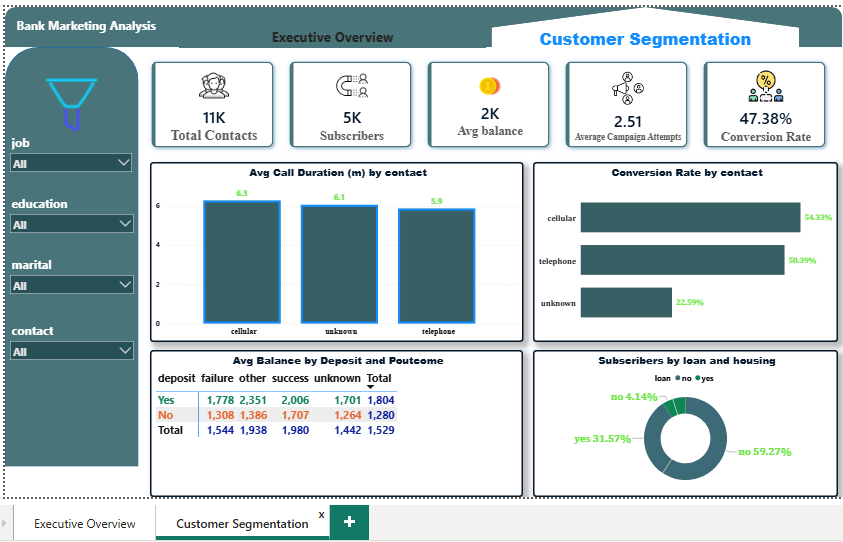

The page's visual inventory and layout, read from the dashboard file:
{"tool":"powerbi","page":{"name":"Customer Segmentation ","canvas":[1675,980],"ordinal":1},"visuals":[{"type":"shape","box":[0,0,1674.7,80.6],"z":0},{"type":"pageNavigator","box":[347.8,0,1240.2,82.8],"z":1000},{"type":"textbox","box":[18,14,304,52],"z":2000},{"type":"cardVisual","fields":{"Data":["_measures.Total Contacts","_measures.Subscribers","_measures.Avg balance","_measures.Average Campaign Attempts","_measures.Conversion Rate"]},"box":[264,80,1410,230],"z":3000},{"type":"shape","box":[0,81,266.8,839],"z":4000},{"type":"clusteredColumnChart","fields":{"Category":["Bank_Clean.contact"],"Y":["_measures.Avg Call Duration (m)"]},"box":[290.7,310,746.7,360],"z":5000},{"type":"pivotTable","title":"Avg Balance by Deposit and Poutcome","fields":{"Rows":["Bank_Clean.deposit"],"Values":["_measures.Avg balance"],"Columns":["Bank_Clean.poutcome"]},"box":[290.2,686.2,746.2,293.8],"z":6000},{"type":"donutChart","fields":{"Category":["Bank_Clean.loan","Bank_Clean.deposit"],"Series":["Bank_Clean.housing"],"Y":["_measures.Subscribers"]},"box":[1055.2,686.2,610,293.8],"z":7000},{"type":"slicer","fields":{"Values":["Bank_Clean.job"]},"box":[0,248.4,263.8,105.5],"z":8000},{"type":"slicer","fields":{"Values":["Bank_Clean.education"]},"box":[0,370,266.7,101.7],"z":9000},{"type":"slicer","fields":{"Values":["Bank_Clean.marital"]},"box":[0,491.7,266.7,101.7],"z":10000},{"type":"slicer","fields":{"Values":["Bank_Clean.contact"]},"box":[0,623.3,266.7,101.7],"z":11000},{"type":"image","box":[45,121.7,175,145],"z":12000},{"type":"barChart","fields":{"Category":["Bank_Clean.contact"],"Y":["_measures.Conversion Rate"]},"box":[1055.2,310,610,360],"z":13000}]}

Visuals, with their boxes on the page's 1675x980 design canvas (x1, y1, x2, y2). These are canvas units, not pixel positions in the 843x542 screenshot, which may show the page scaled, cropped or inside an application window:
shape: x1=0 y1=0 x2=1675 y2=81
pageNavigator: x1=348 y1=0 x2=1588 y2=83
textbox: x1=18 y1=14 x2=322 y2=66
cardVisual - _measures.Total Contacts x _measures.Subscribers: x1=264 y1=80 x2=1674 y2=310
shape: x1=0 y1=81 x2=267 y2=920
clusteredColumnChart - Bank_Clean.contact x _measures.Avg Call Duration (m): x1=291 y1=310 x2=1037 y2=670
"Avg Balance by Deposit and Poutcome" pivotTable: x1=290 y1=686 x2=1036 y2=980
donutChart - Bank_Clean.loan x Bank_Clean.deposit: x1=1055 y1=686 x2=1665 y2=980
slicer - Bank_Clean.job: x1=0 y1=248 x2=264 y2=354
slicer - Bank_Clean.education: x1=0 y1=370 x2=267 y2=472
slicer - Bank_Clean.marital: x1=0 y1=492 x2=267 y2=593
slicer - Bank_Clean.contact: x1=0 y1=623 x2=267 y2=725
image: x1=45 y1=122 x2=220 y2=267
barChart - Bank_Clean.contact x _measures.Conversion Rate: x1=1055 y1=310 x2=1665 y2=670
